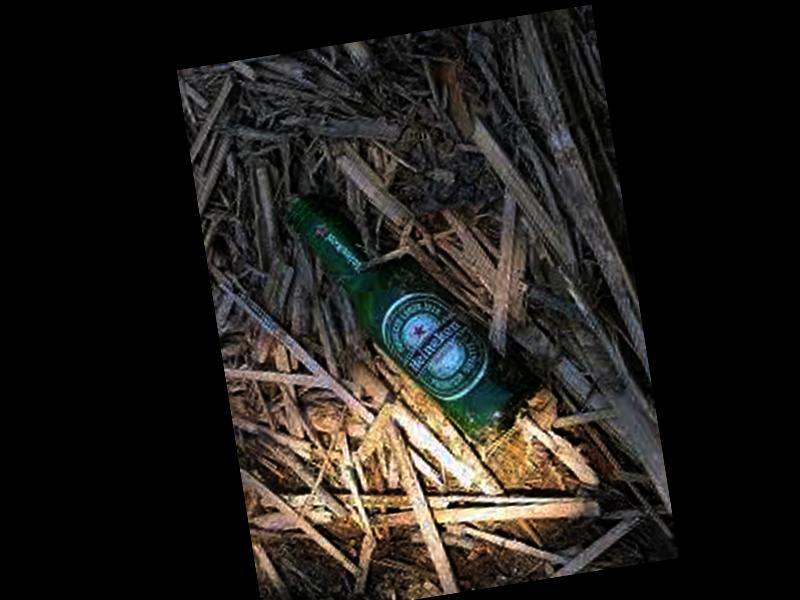Beer: (286, 160, 545, 468)
